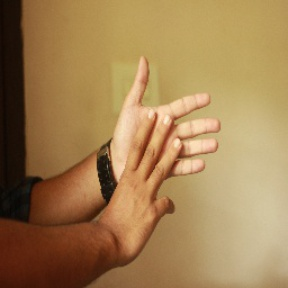M: (99, 56, 222, 230)
